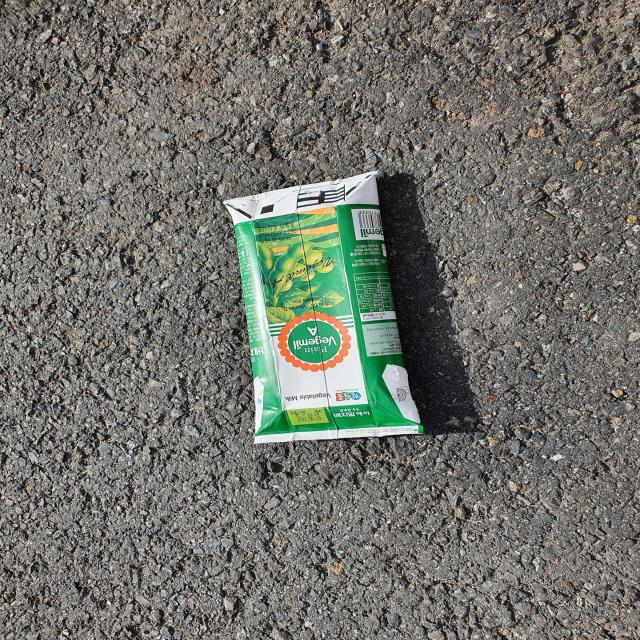paperpack: (224, 171, 424, 444)
